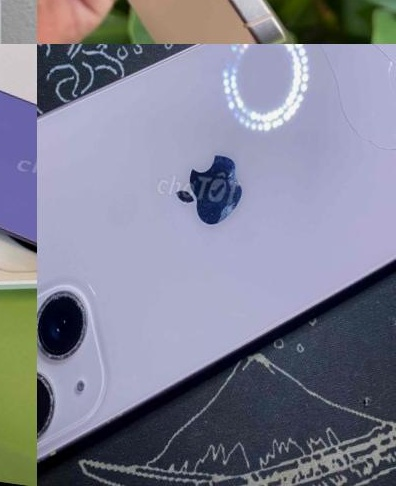physical_damage: (251, 44, 396, 247)
